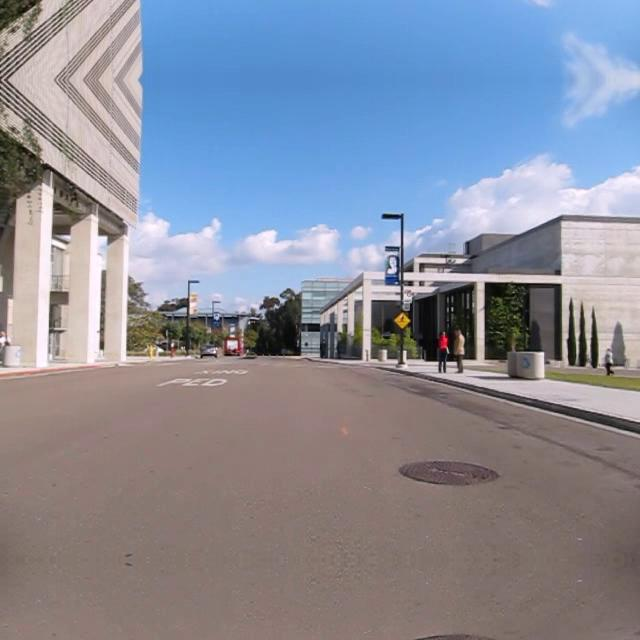pedestrianCrossing: (393, 310, 411, 330)
